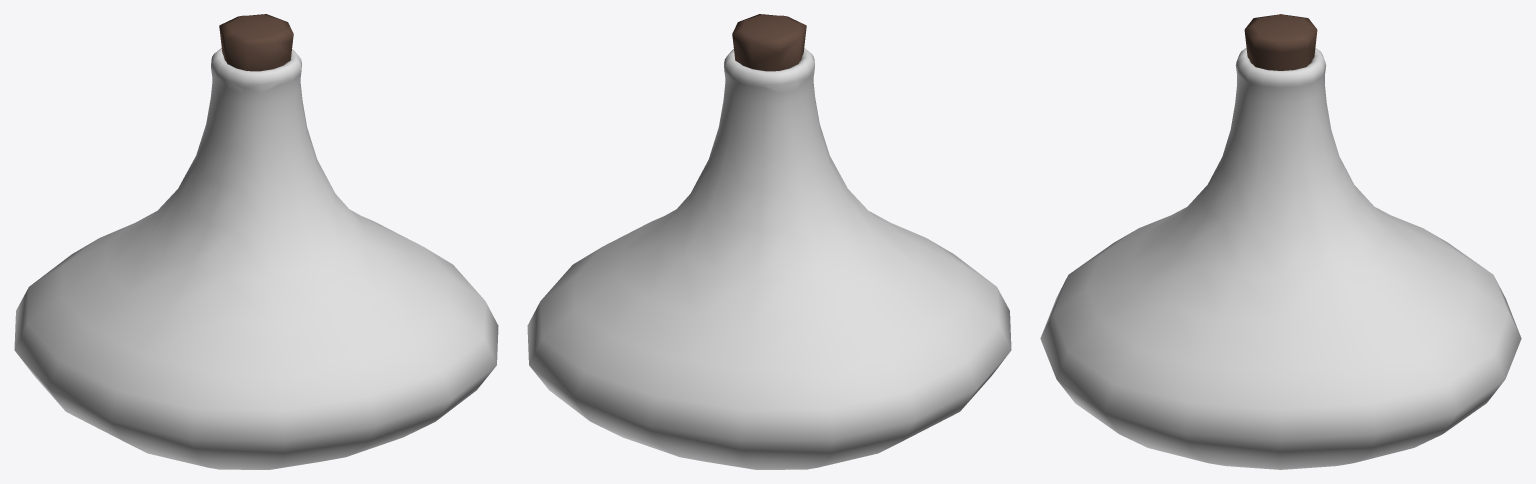
File: quaternius-rpg-items-potion-8-filled.glb
3 views of the same model, side by side, from view 1: azimuth 30°, elevation 25°; view 2: azimuth 150°, elevation 25°; view 3: azimuth 270°, elevation 25° (orthographic).
Parts seen in each view (by area): view 1: Potion8_Filled; view 2: Potion8_Filled; view 3: Potion8_Filled.
Part boxes in pixels (bbox=[...]): Potion8_Filled: bbox=[14, 14, 498, 469]; Potion8_Filled: bbox=[527, 14, 1011, 469]; Potion8_Filled: bbox=[1040, 14, 1521, 469].
Bounding box in the file's own units: 0.7035 × 0.6822 × 0.7035.
